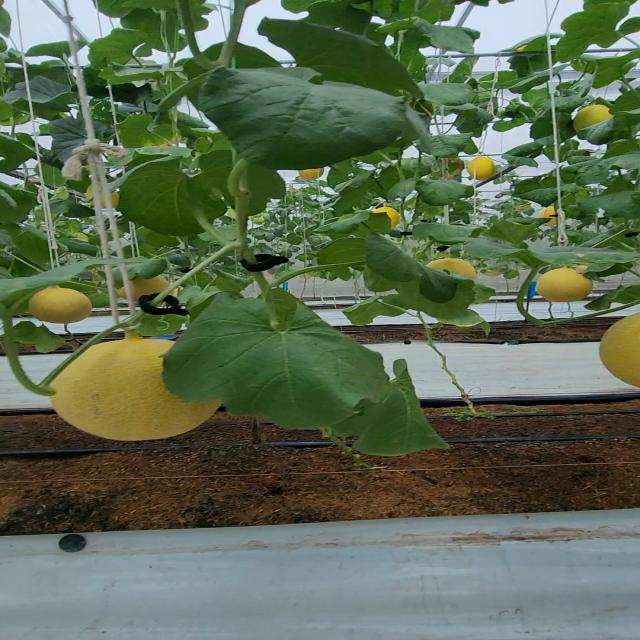Melon: (56, 336, 227, 446)
